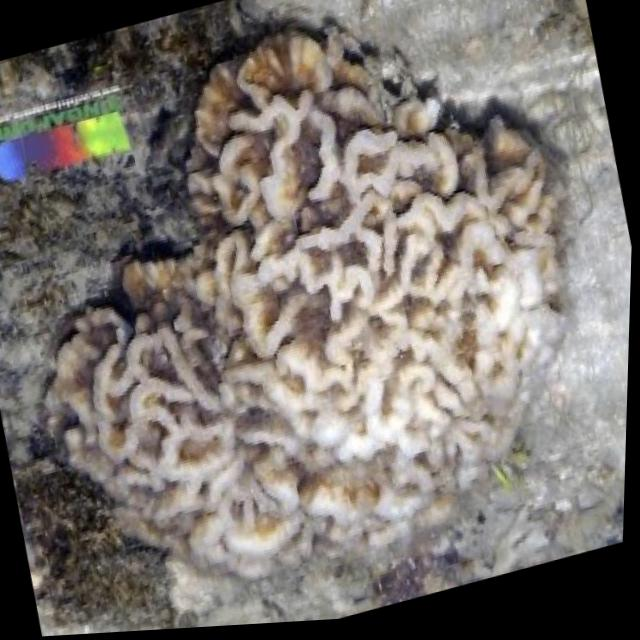Bleached Coral: (25, 0, 640, 638)
